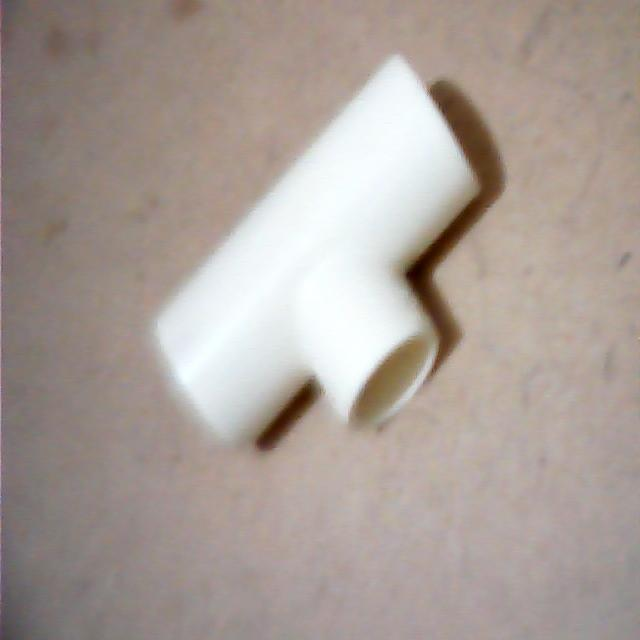T Joint: (150, 54, 481, 452)
